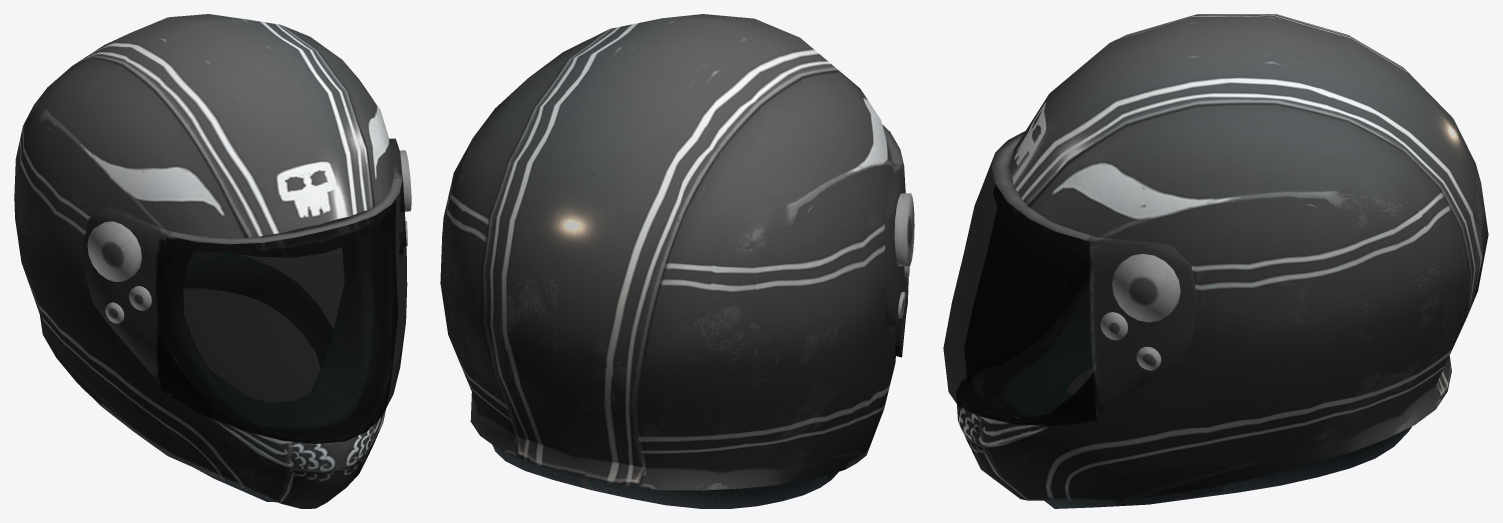
3 views of the same model, side by side, from view 1: azimuth 30°, elevation 25°; view 2: azimuth 150°, elevation 25°; view 3: azimuth 270°, elevation 25° (orthographic). The views are drawn at different scales.
Parts seen in each view (by area): view 1: Wolf3D_Headwear; view 2: Wolf3D_Headwear; view 3: Wolf3D_Headwear.
Boxes of the visible parts, x1,y1,x2,y2 form: Wolf3D_Headwear: (14, 14, 411, 508); Wolf3D_Headwear: (440, 14, 914, 508); Wolf3D_Headwear: (943, 14, 1488, 508).
Size of the model in its own units: 0.2429 by 0.2955 by 0.3137.
Materials: 1 (1 with a texture image).
